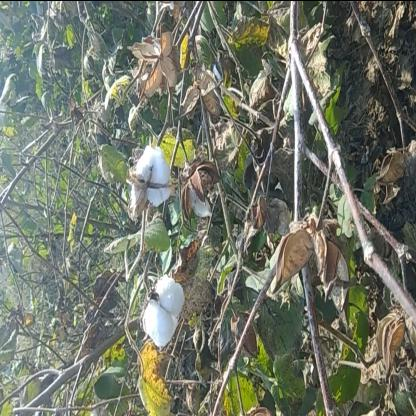cotton_ready: (116, 120, 182, 228), (136, 272, 193, 352)
